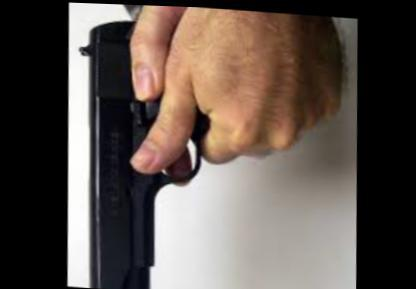pistol: (68, 1, 218, 287)
